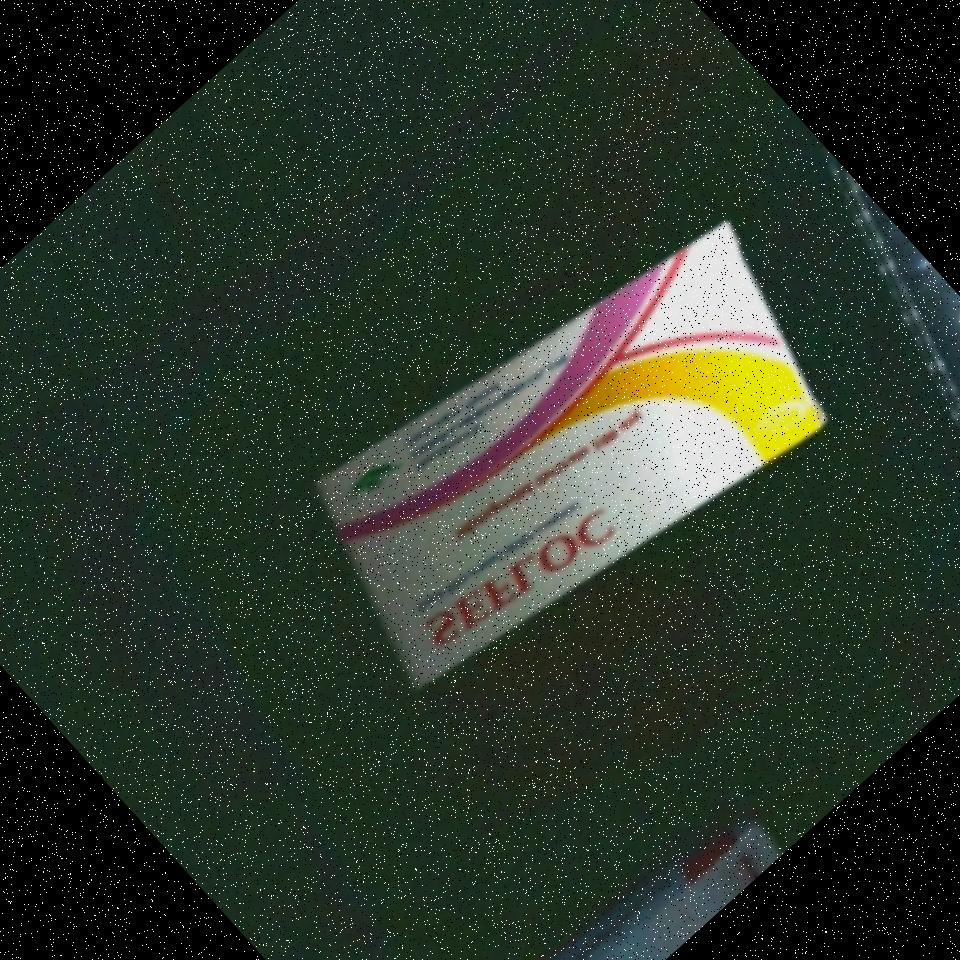sefloc: (293, 218, 847, 686)
